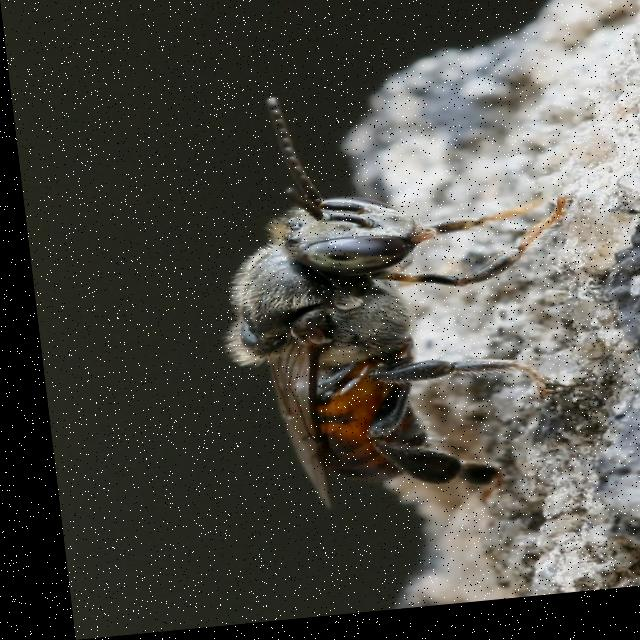Meliponula: (195, 69, 591, 526)
